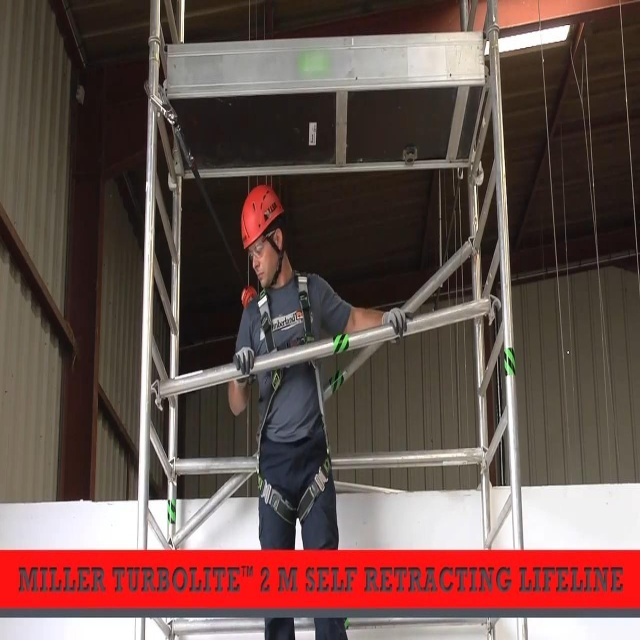Arnes_seguridad: (253, 279, 338, 527)
